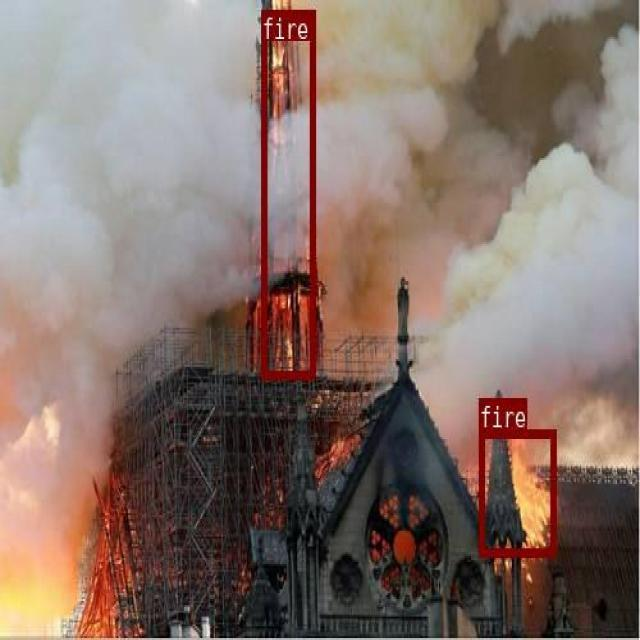fire: (261, 8, 314, 377), (478, 429, 555, 555)
